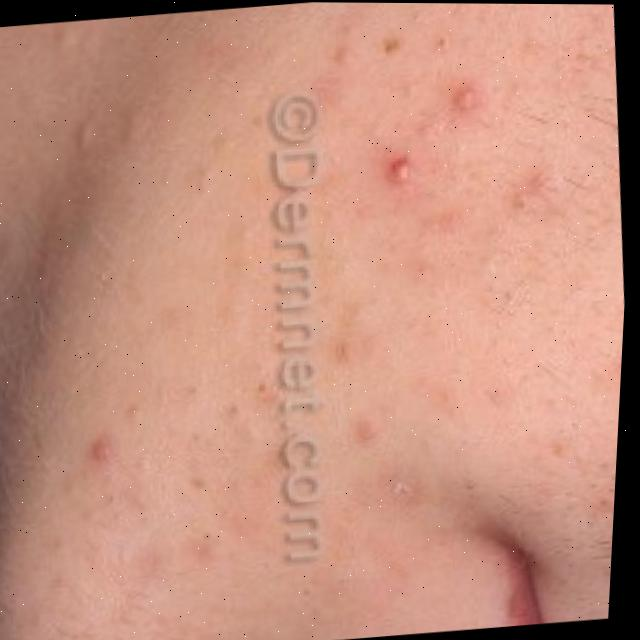Acne: (368, 45, 495, 177)
